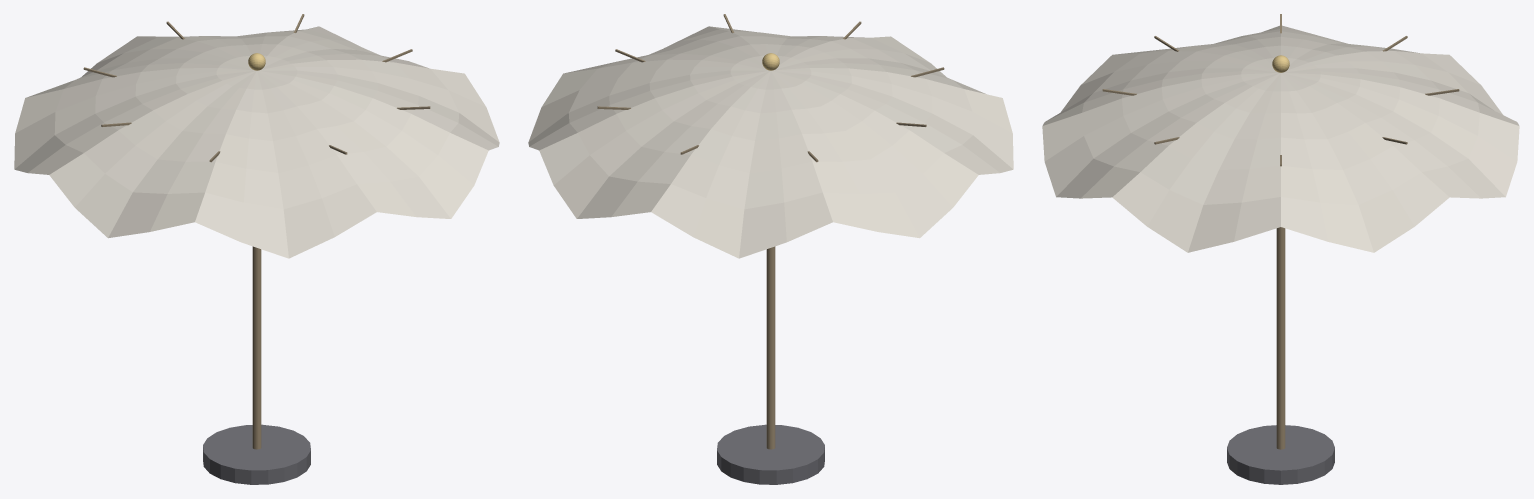
The model's file is umbrella.glb.
3 renders of one model, left to right at view 1: azimuth 30°, elevation 25°; view 2: azimuth 150°, elevation 25°; view 3: azimuth 270°, elevation 25°, orthographic.
Parts seen in each view (by area): view 1: canopy, base, pole; view 2: canopy, base, pole; view 3: canopy, base, pole.
Boxes of the visible parts, x1=… form: canopy: x1=14, y1=26, x2=499, y2=258; base: x1=203, y1=424, x2=310, y2=484; pole: x1=252, y1=246, x2=261, y2=449; canopy: x1=528, y1=26, x2=1013, y2=258; base: x1=717, y1=424, x2=824, y2=484; pole: x1=766, y1=246, x2=775, y2=449; canopy: x1=1042, y1=25, x2=1519, y2=252; base: x1=1227, y1=425, x2=1334, y2=484; pole: x1=1276, y1=227, x2=1285, y2=449.
Bounding box in the file's own units: 3 × 2.81 × 3.
